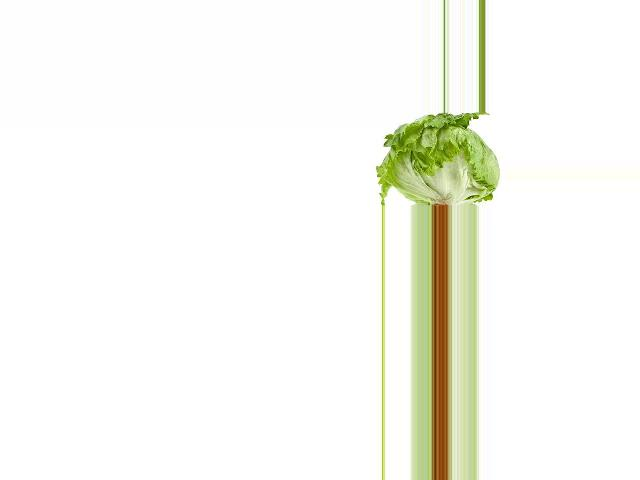lettuce: (371, 113, 503, 206)
